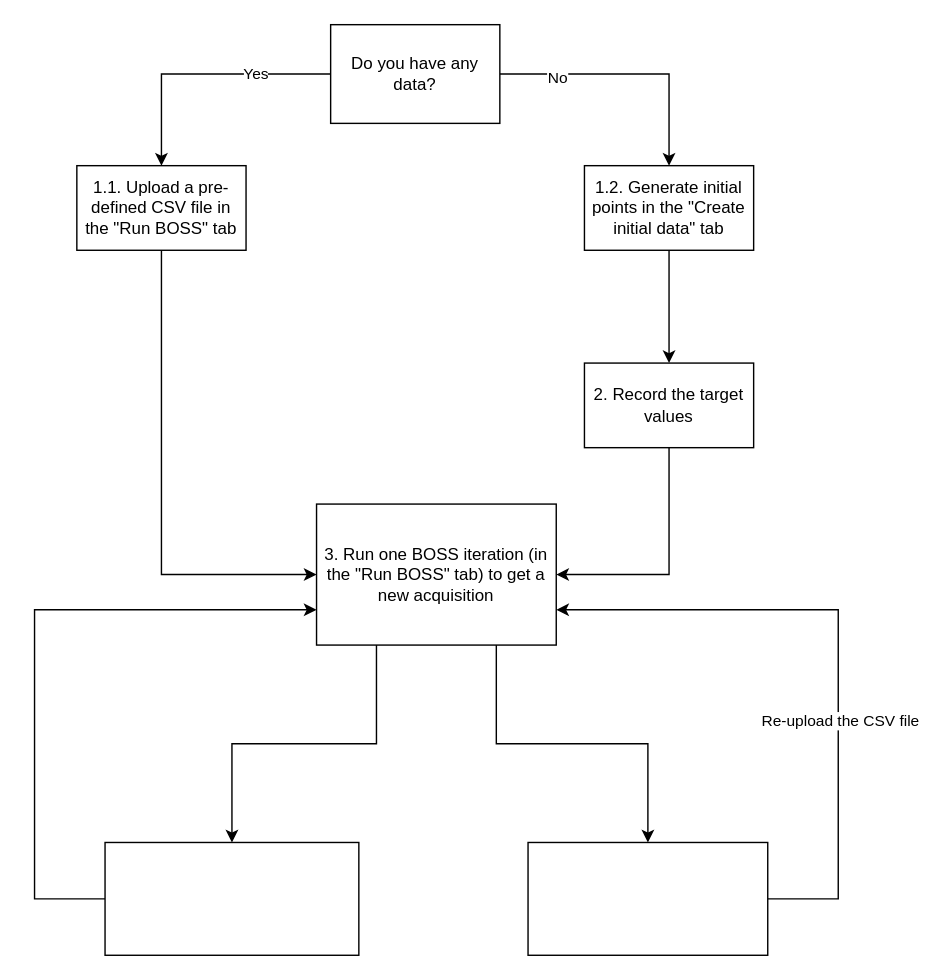
The diagram is 948 pixels wide and 980 high, and some of its shapes have lost their labels. Each missing label, with the centre of its shape:
4.1. Type in directly in the app the measurement for the new acquisition: point 231,898
4.2. Download the data and record the measurement for the new acquisition: point 647,898
